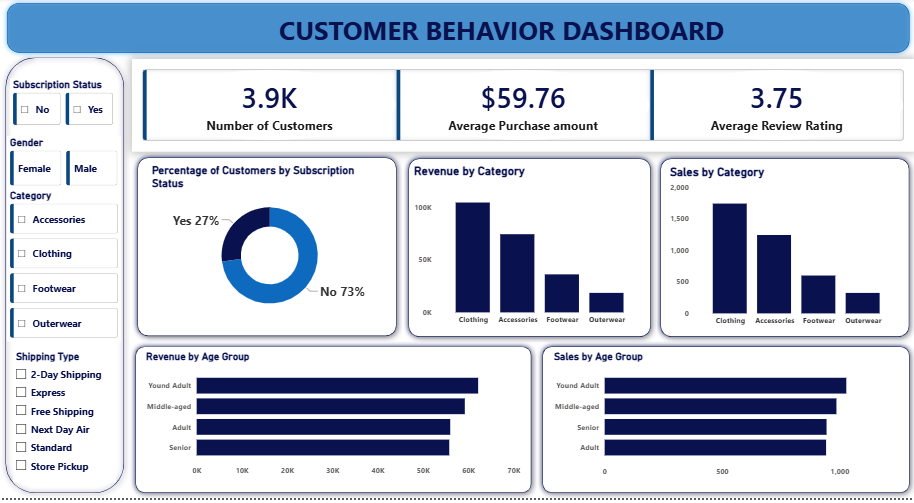

What the dashboard file says about the page in this screenshot:
{"tool":"powerbi","page":{"name":"Page 1","canvas":[1500,820],"ordinal":0},"visuals":[{"type":"shape","title":"Customer Behavior Dashboard","box":[3.6,0,1496.4,97.6],"z":0},{"type":"cardVisual","fields":{"Data":["public customer_behavior.Number of customers","public customer_behavior.Average Purchase amount","public customer_behavior.Average Review Rating"]},"box":[216.5,100.4,1283.5,151.6],"z":1000},{"type":"shape","box":[216.5,252,442.9,311],"z":3000},{"type":"donutChart","title":"Percentage of Customers by Subscription Status","fields":{"Category":["public customer_behavior.subscription_status"],"Y":["Count(public customer_behavior.customer_id)"]},"box":[244.1,271.7,395.7,257.9],"z":4000},{"type":"shape","box":[1074,253.8,426,310.7],"z":6000},{"type":"shape","box":[660.4,253.8,415.4,310.7],"z":7000},{"type":"clusteredColumnChart","title":"Revenue by Category","fields":{"Y":["Sum(public customer_behavior.purchase_amount)"],"Category":["public customer_behavior.category"]},"box":[674.6,271.6,385.2,273.4],"z":7001},{"type":"clusteredColumnChart","title":"Sales by Category","fields":{"Y":["Count(public customer_behavior.customer_id)"],"Category":["public customer_behavior.category"]},"box":[1093.5,273.4,385.2,273.4],"z":7002},{"type":"shape","box":[0,88.6,212.6,732.3],"z":7003},{"type":"advancedSlicerVisual","fields":{"Values":["public customer_behavior.subscription_status"]},"box":[15.7,131.9,175.2,82.7],"z":7004},{"type":"advancedSlicerVisual","title":"Gender","fields":{"Values":["public customer_behavior.gender"]},"box":[11.8,226.4,187,86.6],"z":7005},{"type":"advancedSlicerVisual","title":"Category","fields":{"Values":["public customer_behavior.category"]},"box":[11.8,313,187,250],"z":7006},{"type":"listSlicer","title":"Shipping Type","fields":{"Values":["public customer_behavior.shipping_type"]},"box":[21.7,576.8,169.3,216.5],"z":7007},{"type":"shape","box":[212.6,563,667.3,257.9],"z":7009},{"type":"clusteredBarChart","title":"Revenue by Age Group","fields":{"Y":["Sum(public customer_behavior.purchase_amount)"],"Category":["public customer_behavior.age_group"]},"box":[234.3,576.8,624,216.5],"z":7010},{"type":"shape","box":[879.9,563,620.1,257.9],"z":7011},{"type":"clusteredBarChart","title":"Sales by Age Group","fields":{"Category":["public customer_behavior.age_group"],"Y":["Count(public customer_behavior.customer_id)"]},"box":[903.6,576.9,571.6,216.6],"z":7012},{"type":"textbox","box":[216.6,17.8,1082.8,83.4],"z":7013}]}

Visuals, with their boxes in screenshot pixels (x1, y1, x2, y2), scaled from the page's 1500x820 canvas onto the 914x503 screenshot:
"Customer Behavior Dashboard" shape: (x1=2, y1=0, x2=913, y2=60)
cardVisual - public customer_behavior.Number of customers x public customer_behavior.Average Purchase amount: (x1=132, y1=62, x2=913, y2=155)
shape: (x1=132, y1=155, x2=402, y2=345)
"Percentage of Customers by Subscription Status" donutChart: (x1=149, y1=167, x2=390, y2=325)
shape: (x1=654, y1=156, x2=913, y2=346)
shape: (x1=402, y1=156, x2=656, y2=346)
"Revenue by Category" clusteredColumnChart: (x1=411, y1=167, x2=646, y2=334)
"Sales by Category" clusteredColumnChart: (x1=666, y1=168, x2=901, y2=335)
shape: (x1=0, y1=54, x2=130, y2=502)
advancedSlicerVisual - public customer_behavior.subscription_status: (x1=10, y1=81, x2=116, y2=132)
"Gender" advancedSlicerVisual: (x1=7, y1=139, x2=121, y2=192)
"Category" advancedSlicerVisual: (x1=7, y1=192, x2=121, y2=345)
"Shipping Type" listSlicer: (x1=13, y1=354, x2=116, y2=487)
shape: (x1=130, y1=345, x2=536, y2=502)
"Revenue by Age Group" clusteredBarChart: (x1=143, y1=354, x2=523, y2=487)
shape: (x1=536, y1=345, x2=913, y2=502)
"Sales by Age Group" clusteredBarChart: (x1=551, y1=354, x2=899, y2=487)
textbox: (x1=132, y1=11, x2=792, y2=62)
